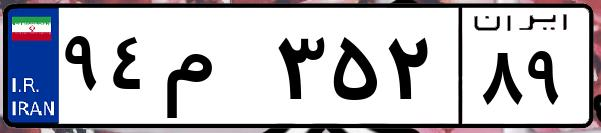2: (385, 28, 445, 110)
3: (270, 28, 330, 110)
4: (110, 28, 158, 98)
5: (330, 28, 385, 110)
8: (475, 38, 525, 113)
9: (57, 26, 110, 100), (525, 38, 570, 115)
م: (158, 20, 270, 120)
